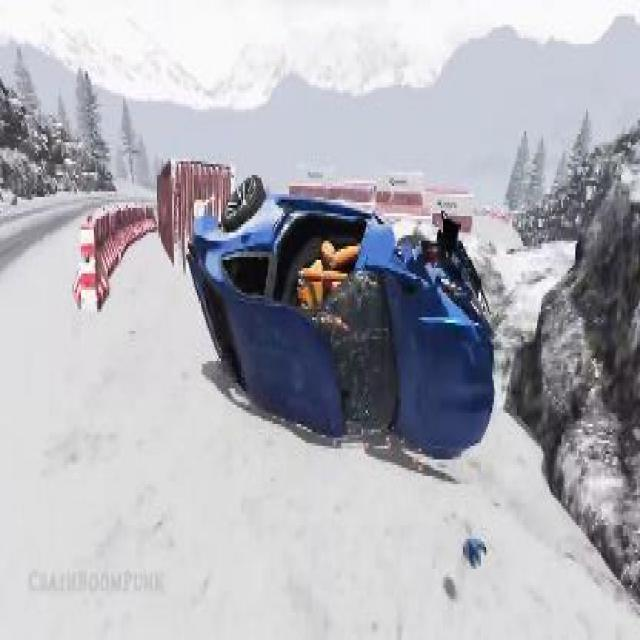accident: (178, 166, 502, 474)
